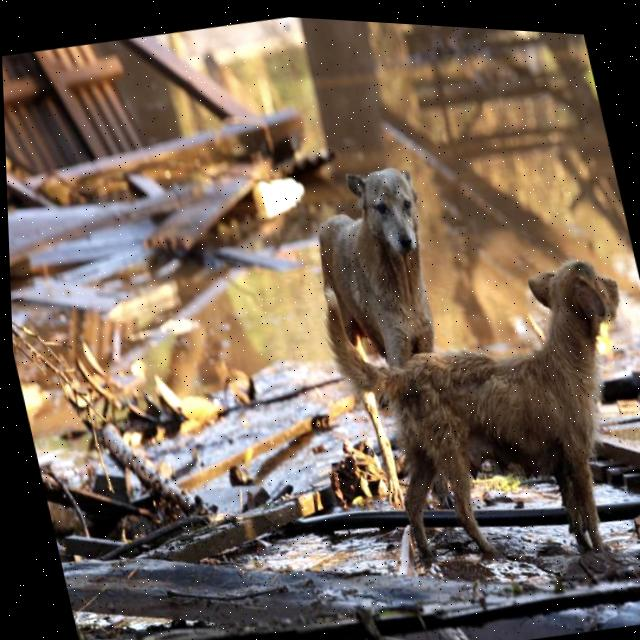dog: (300, 235, 640, 604), (283, 151, 461, 388)
